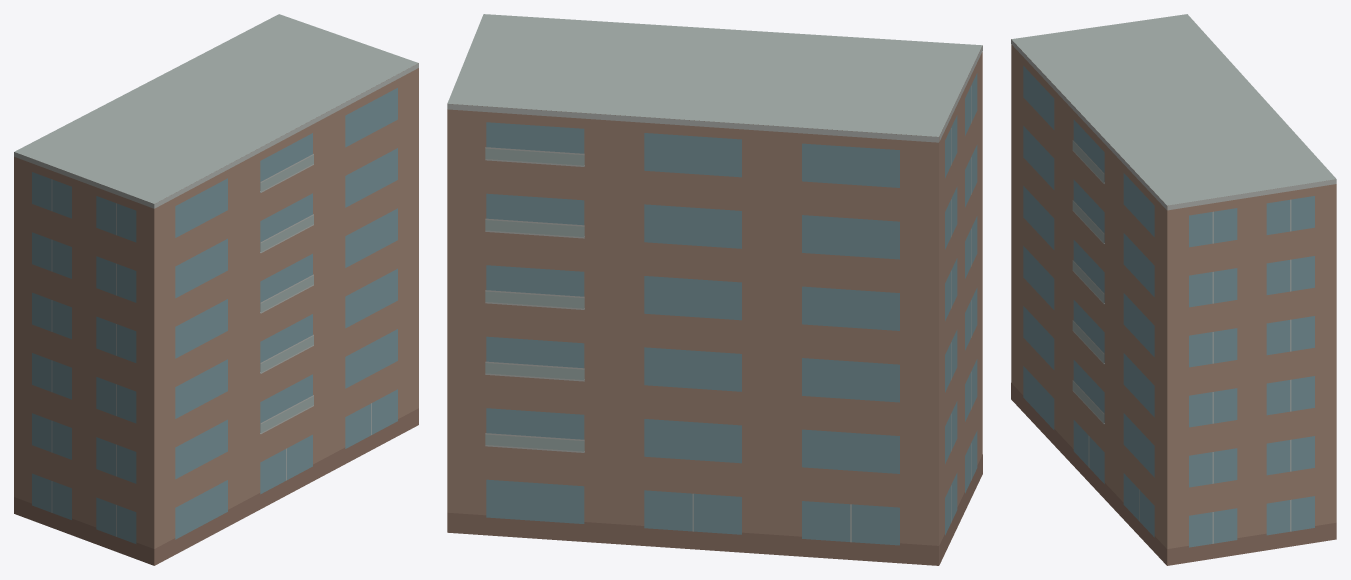
File: survey-upis-33045349.glb
3 renders of one model, left to right at view 1: azimuth 30°, elevation 25°; view 2: azimuth 150°, elevation 25°; view 3: azimuth 270°, elevation 25°, orthographic. The views are drawn at different scales.
Visible parts, largest first — view 1: survey-upis-33045349.tmp; view 2: survey-upis-33045349.tmp; view 3: survey-upis-33045349.tmp.
Boxes of the visible parts, left/top/right/bottom form: survey-upis-33045349.tmp: left=14, top=14, right=418, bottom=565; survey-upis-33045349.tmp: left=447, top=14, right=982, bottom=565; survey-upis-33045349.tmp: left=1011, top=14, right=1336, bottom=565.
Bounding box in the file's own units: 20.89 × 18.3 × 15.
